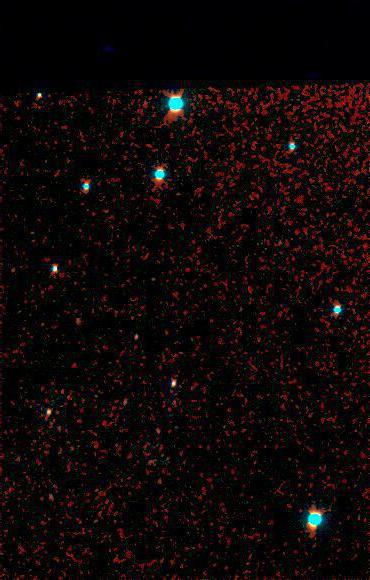star: (143, 468, 173, 498)
